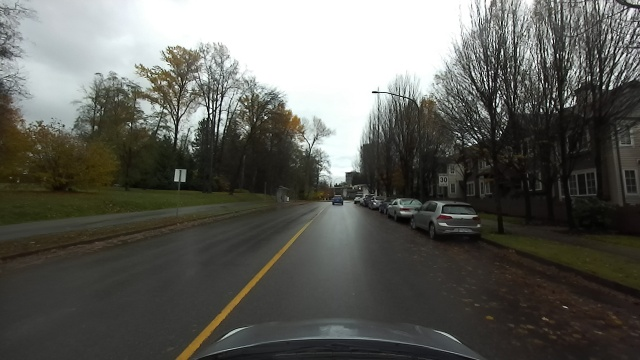car: (412, 196, 484, 237), (383, 195, 419, 222), (330, 193, 346, 206), (368, 194, 381, 210), (353, 194, 363, 204)
